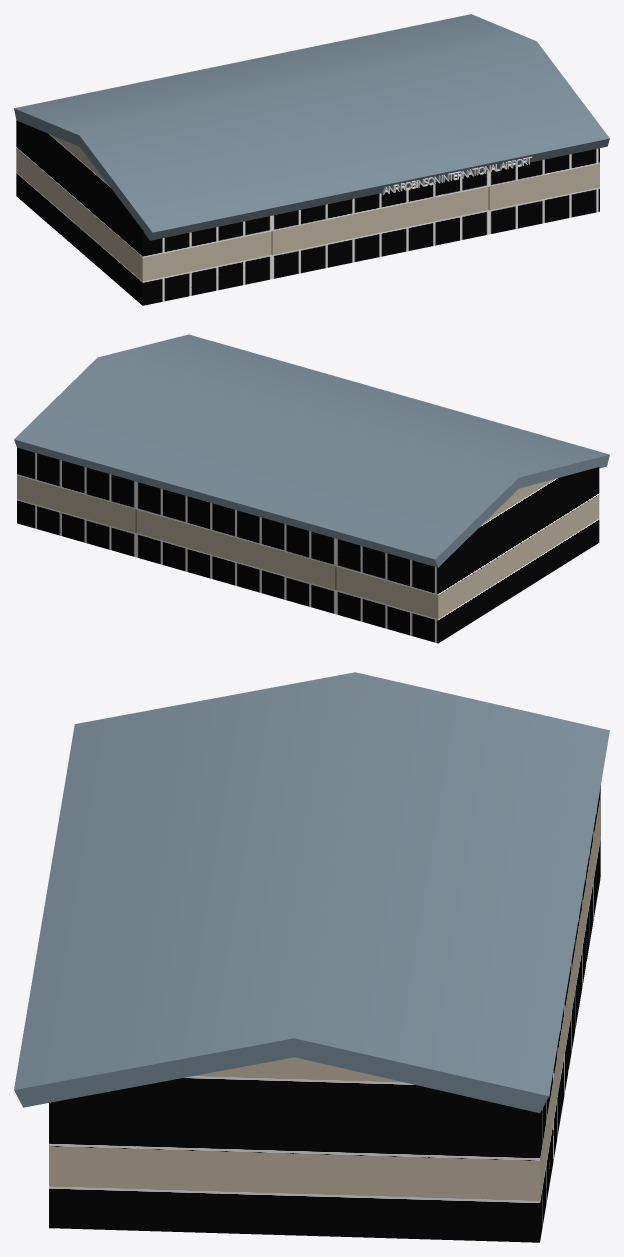
File: TABAirport.glb
The picture shows the model from 3 angles, top to bottom: view 1: azimuth 30°, elevation 25°; view 2: azimuth 150°, elevation 25°; view 3: azimuth 270°, elevation 25°; orthographic projection. The views are drawn at different scales.
Parts seen in each view (by area): view 1: Buffer Object 28, Buffer Object 27; view 2: Buffer Object 28, Buffer Object 27; view 3: Buffer Object 28, Buffer Object 27.
Boxes of the visible parts, <box> form: Buffer Object 28: <box>14,14,609,240</box>; Buffer Object 27: <box>16,120,599,305</box>; Buffer Object 28: <box>14,334,609,567</box>; Buffer Object 27: <box>17,447,599,643</box>; Buffer Object 28: <box>14,672,609,1113</box>; Buffer Object 27: <box>49,785,600,1242</box>.
Bounding box in the file's own units: 76.62 × 18.49 × 50.64.
Materials: 3 (1 with a texture image).
